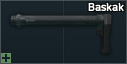Armacon Baskak stock: (0, 0, 127, 64)
